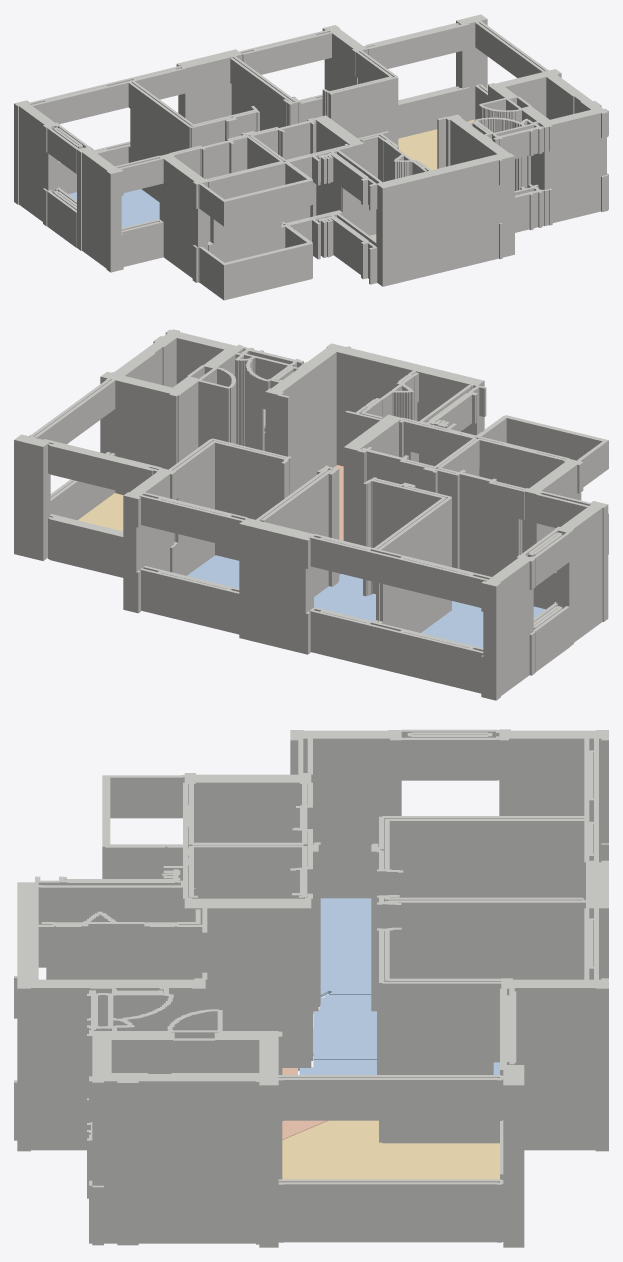
3 renders of one model, top to bottom at view 1: azimuth 30°, elevation 25°; view 2: azimuth 150°, elevation 25°; view 3: azimuth 270°, elevation 25°, orthographic. The views are drawn at different scales.
Parts seen in each view (by area): view 1: walls, room:bedroom:9, room:living:2; view 2: walls, room:bedroom:9, room:bedroom:0, room:bedroom:1, room:living:2; view 3: walls, room:living:2, room:bedroom:9, room:bedroom:0, room:bedroom:1.
Boxes of the visible parts, x1,y1,x2,y2 form: walls: (14, 14, 608, 300); room:bedroom:9: (68, 189, 159, 227); room:living:2: (398, 119, 474, 169); walls: (14, 329, 608, 700); room:bedroom:9: (421, 601, 545, 647); room:bedroom:0: (314, 574, 375, 621); room:bedroom:1: (187, 555, 340, 588); room:living:2: (78, 493, 123, 531); walls: (14, 729, 608, 1247); room:living:2: (282, 1120, 499, 1179); room:bedroom:9: (320, 898, 584, 996); room:bedroom:0: (313, 995, 376, 1059); room:bedroom:1: (299, 1060, 499, 1074).
Size of the model in its own units: 13.16 by 2.8 by 9.29.
